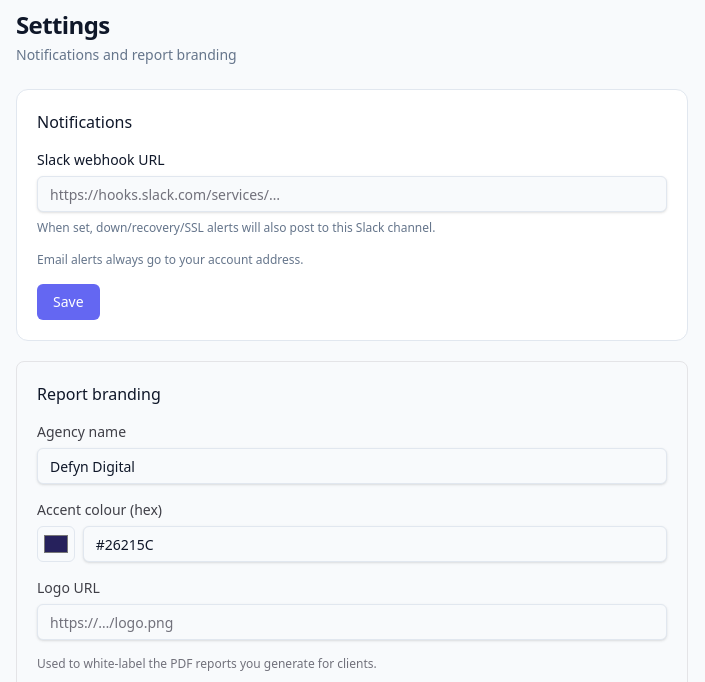
Scenario: Settings page › shows an inline error and disables Save for a non-hooks.slack.com URL
Type "https://example.com/not-a-webhook" into the field labelled "Slack webhook URL" at (352, 194), box [37,176,667,212]
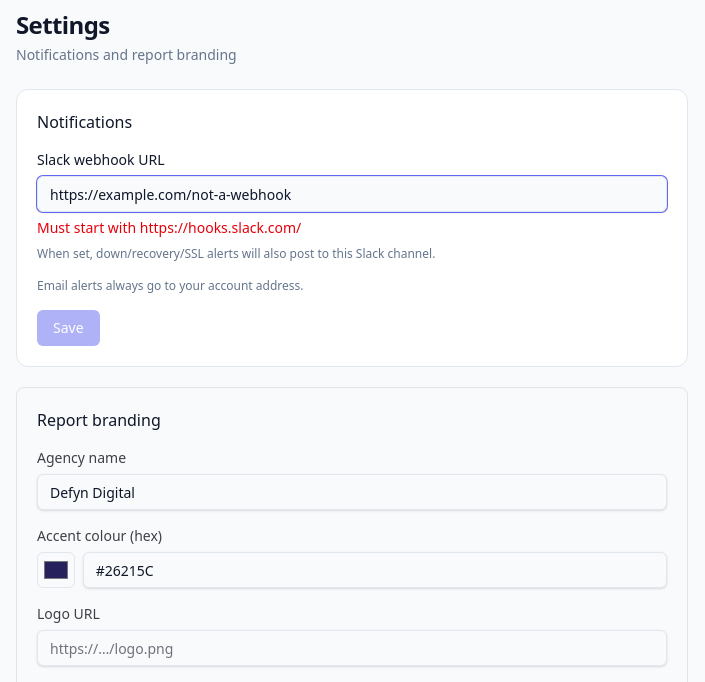
Expected: the text "Must start with https://hooks.slack.com/" is shown, [37,218,301,237]
Expected: the button "Save" is disabled, [37,310,100,346]
